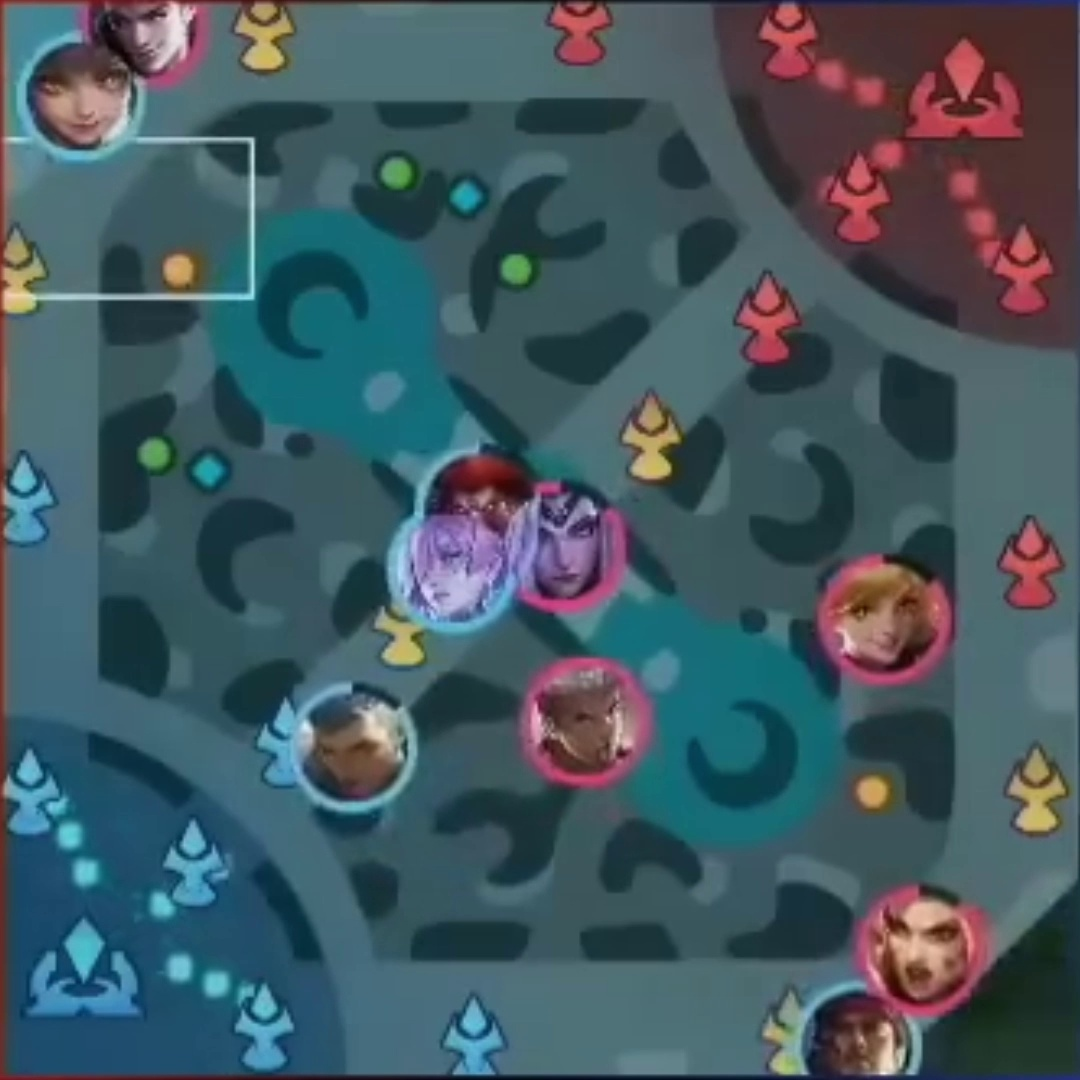Chou: (537, 670, 644, 775)
Claude: (101, 1, 201, 75)
Fanny: (834, 563, 944, 678)
Fredrinn: (297, 693, 411, 806)
Lapu-Lapu: (805, 991, 919, 1080)
Masha: (865, 897, 983, 996)
Novaria: (397, 517, 507, 632)
Valentina: (511, 492, 621, 600)
Wanwan: (29, 38, 147, 154)
